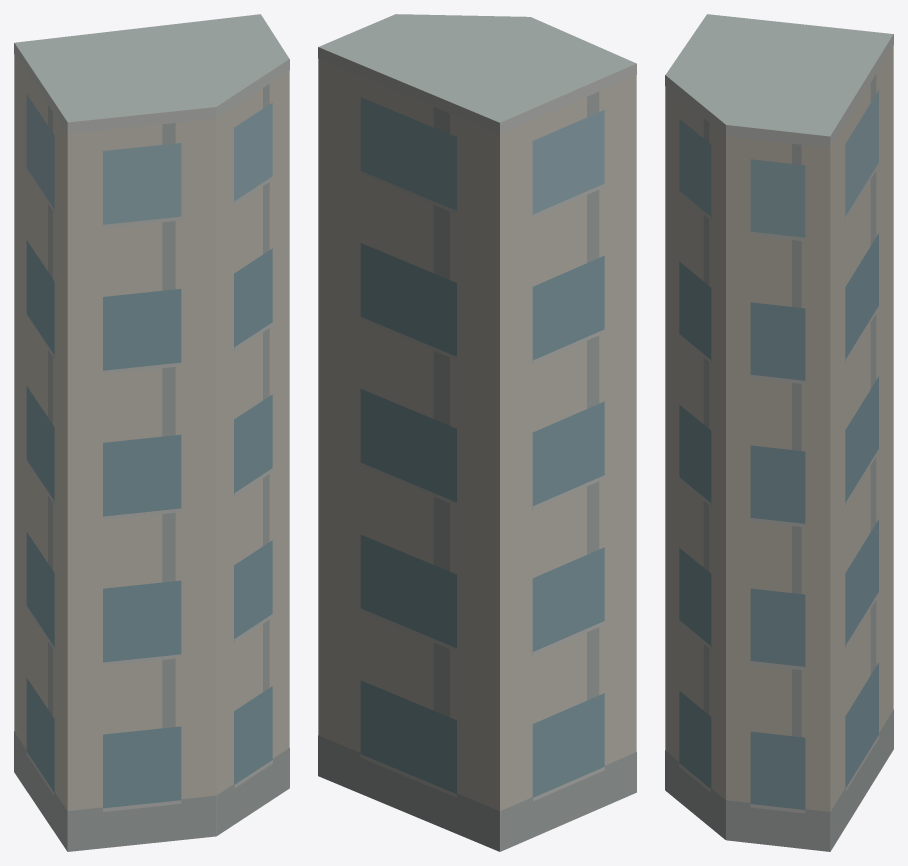
The model's file is survey-upis-32573955.glb.
3 views of the same model, side by side, from view 1: azimuth 30°, elevation 25°; view 2: azimuth 150°, elevation 25°; view 3: azimuth 270°, elevation 25° (orthographic).
Visible parts, largest first — view 1: survey-upis-32573955.tmp; view 2: survey-upis-32573955.tmp; view 3: survey-upis-32573955.tmp.
Part boxes in pixels (x1,y1,x2,y2): survey-upis-32573955.tmp: (14, 14, 289, 851); survey-upis-32573955.tmp: (318, 14, 636, 851); survey-upis-32573955.tmp: (665, 14, 893, 851).
Bounding box in the file's own units: 5.61 × 15.25 × 4.42.
